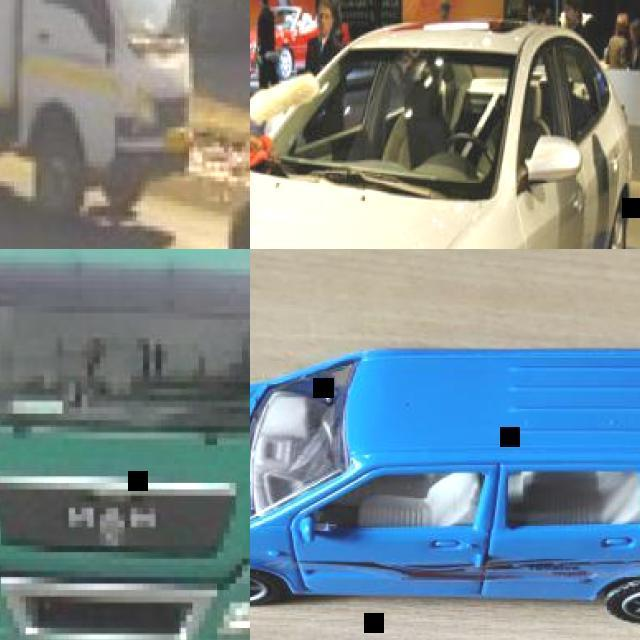car: (247, 338, 634, 634), (0, 247, 250, 640), (249, 20, 625, 248), (0, 0, 195, 212)
